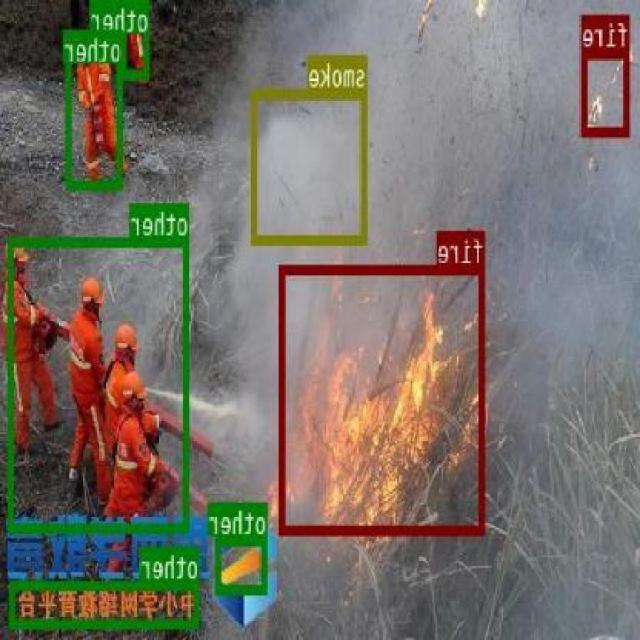Fire: (282, 263, 486, 532), (583, 48, 631, 134)
Smoke: (252, 88, 368, 244)
